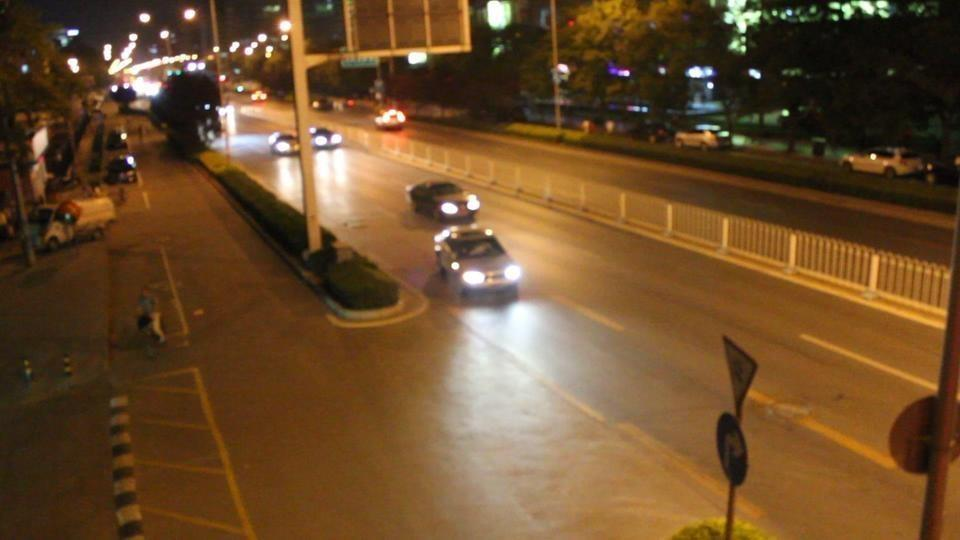car: (302, 231, 402, 322), (432, 224, 524, 304), (30, 194, 116, 247), (405, 179, 481, 224), (843, 148, 929, 181), (28, 202, 80, 252), (673, 127, 727, 151), (104, 155, 138, 185), (309, 125, 343, 151), (373, 105, 407, 130), (268, 131, 299, 155), (232, 80, 257, 95)
